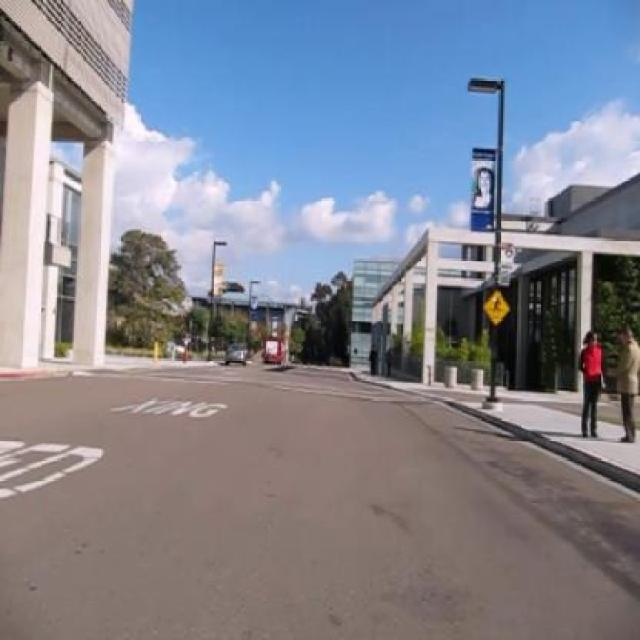pedestrianCrossing: (482, 289, 511, 327)
